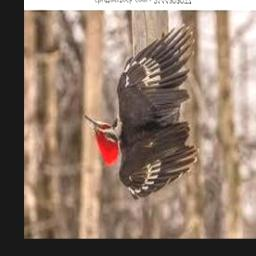Woodpecker: (84, 24, 198, 200)
